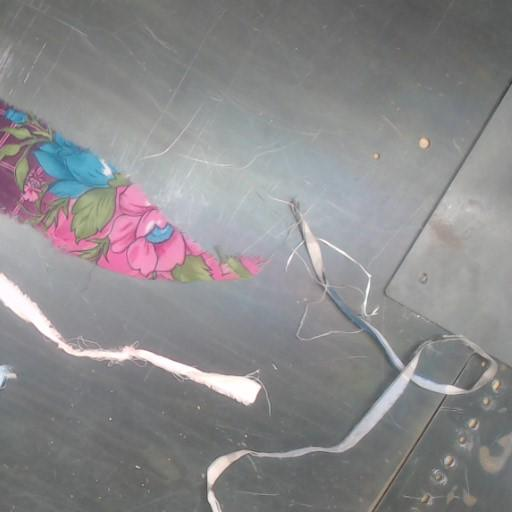cloth: (0, 100, 260, 282)
conveyor belt: (0, 0, 511, 511)
thread: (206, 203, 497, 511), (0, 272, 261, 405), (320, 238, 377, 318), (295, 303, 362, 340), (286, 240, 303, 271), (312, 295, 324, 303)
